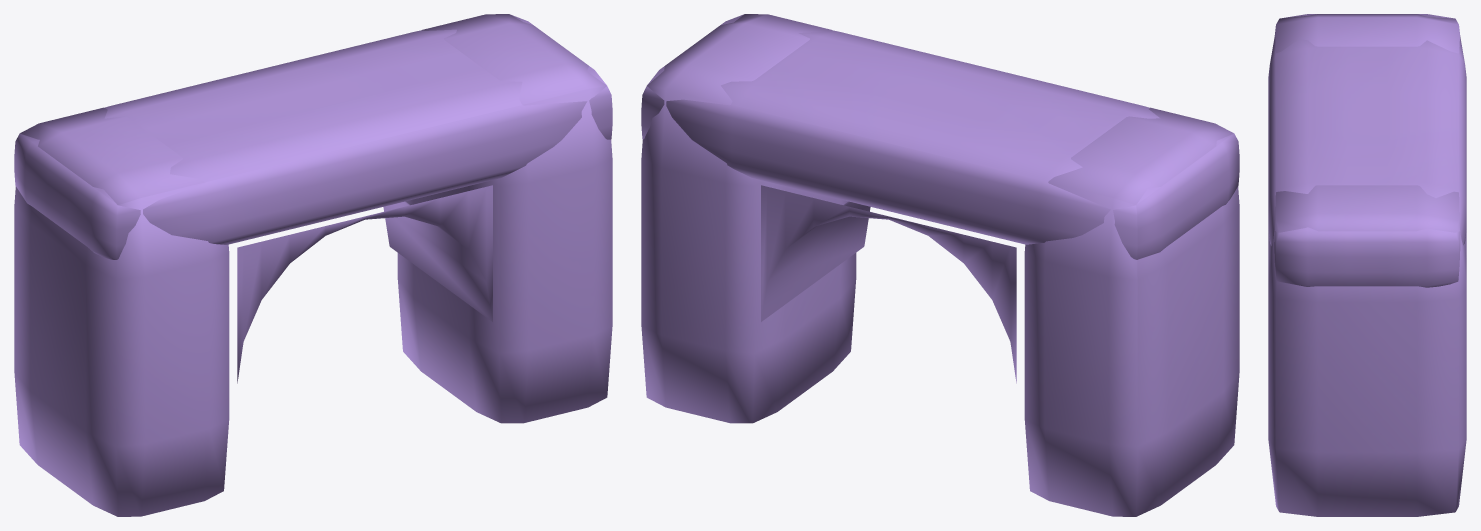
File: block_arch.glb
3 views of the same model, side by side, from view 1: azimuth 30°, elevation 25°; view 2: azimuth 150°, elevation 25°; view 3: azimuth 270°, elevation 25° (orthographic). The views are drawn at different scales.
Parts seen in each view (by area): view 1: BlockArch; view 2: BlockArch; view 3: BlockArch.
Boxes of the visible parts, x1,y1,x2,y2 form: BlockArch: (14,14,612,516); BlockArch: (641,14,1239,516); BlockArch: (1268,14,1466,516).
Size of what is drawn, in the model's own units: 0.16 by 0.1 by 0.06.
1 material, 1 textured.
